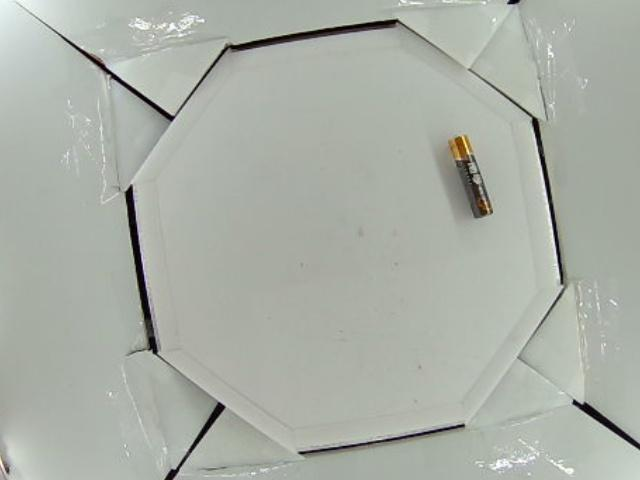Battery: (450, 135, 493, 217)
